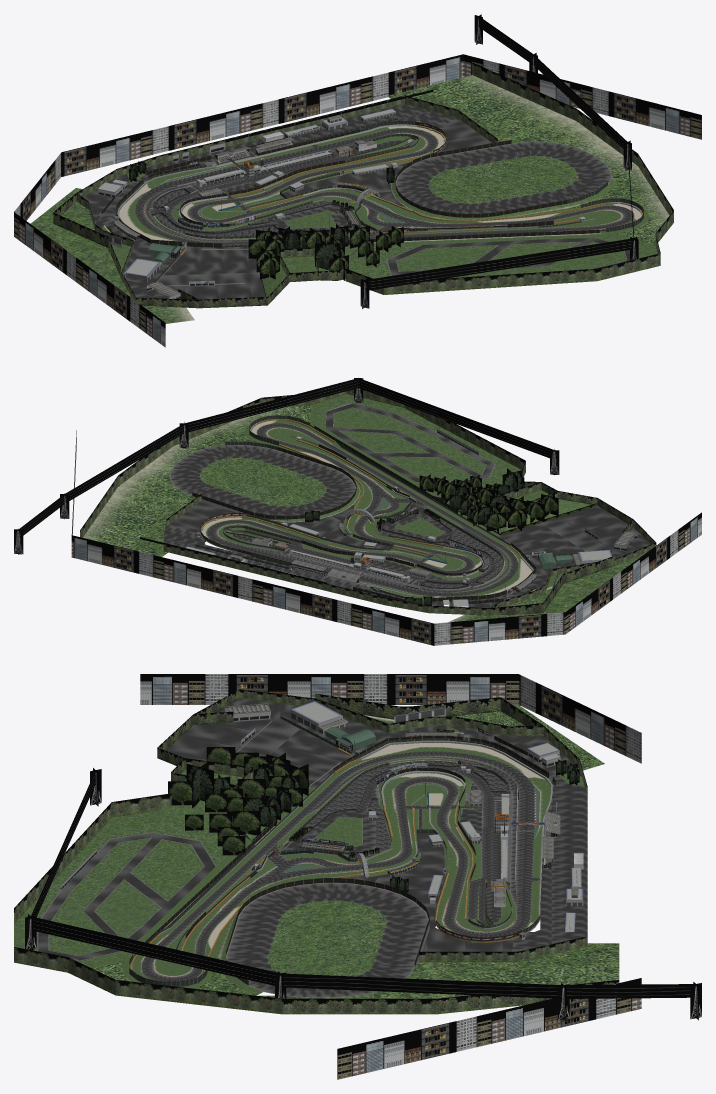
The picture shows the model from 3 angles, top to bottom: view 1: azimuth 30°, elevation 25°; view 2: azimuth 150°, elevation 25°; view 3: azimuth 270°, elevation 25°; orthographic projection. The views are drawn at different scales.
Visible parts, largest first — view 1: tsukubaV8_SKP__tkb_kusa, tsukubaV8_SKP__tkb_road, tsukubaV8_SKP__tkb_lowtatemono, tsukubaV8_SKP__tkb_ki_low, tsukubaV8_SKP__tkb_fence1, tsukubaV8_SKP__tkb_tatemono0, tsukubaV8_SKP__tkb_dentou, tsukubaV8_SKP__tkb_ki, tsukubaV8_SKP__tkb_clashpad, tsukubaV8_SKP__tkb_fence, tsukubaV8_SKP__tkb_suna, tsukubaV8_SKP__water (+3 smaller); view 2: tsukubaV8_SKP__tkb_kusa, tsukubaV8_SKP__tkb_road, tsukubaV8_SKP__tkb_lowtatemono, tsukubaV8_SKP__tkb_ki_low, tsukubaV8_SKP__tkb_dentou, tsukubaV8_SKP__tkb_fence1, tsukubaV8_SKP__tkb_ki, tsukubaV8_SKP__tkb_tatemono0, tsukubaV8_SKP__tkb_clashpad, tsukubaV8_SKP__tkb_fence, tsukubaV8_SKP__water, tsukubaV8_SKP__tkb_kabe (+3 smaller); view 3: tsukubaV8_SKP__tkb_road, tsukubaV8_SKP__tkb_kusa, tsukubaV8_SKP__tkb_lowtatemono, tsukubaV8_SKP__tkb_ki_low, tsukubaV8_SKP__tkb_dentou, tsukubaV8_SKP__tkb_ki, tsukubaV8_SKP__tkb_tatemono0, tsukubaV8_SKP__tkb_fence1, tsukubaV8_SKP__tkb_clashpad, tsukubaV8_SKP__water, tsukubaV8_SKP__tkb_suna, tsukubaV8_SKP__tkb_fence (+2 smaller).
Boxes of the visible parts, bbox=[...] form: tsukubaV8_SKP__tkb_kusa: bbox=[30, 75, 669, 323]; tsukubaV8_SKP__tkb_road: bbox=[83, 104, 634, 299]; tsukubaV8_SKP__tkb_lowtatemono: bbox=[14, 54, 701, 347]; tsukubaV8_SKP__tkb_ki_low: bbox=[53, 62, 673, 308]; tsukubaV8_SKP__tkb_fence1: bbox=[102, 117, 643, 286]; tsukubaV8_SKP__tkb_tatemono0: bbox=[92, 109, 585, 298]; tsukubaV8_SKP__tkb_dentou: bbox=[360, 14, 638, 308]; tsukubaV8_SKP__tkb_ki: bbox=[107, 137, 403, 296]; tsukubaV8_SKP__tkb_clashpad: bbox=[116, 124, 642, 265]; tsukubaV8_SKP__tkb_fence: bbox=[114, 89, 433, 258]; tsukubaV8_SKP__tkb_suna: bbox=[119, 126, 641, 240]; tsukubaV8_SKP__water: bbox=[155, 190, 354, 236]; tsukubaV8_SKP__tkb_kusa: bbox=[83, 394, 656, 622]; tsukubaV8_SKP__tkb_road: bbox=[164, 403, 650, 607]; tsukubaV8_SKP__tkb_lowtatemono: bbox=[71, 430, 701, 645]; tsukubaV8_SKP__tkb_ki_low: bbox=[80, 389, 656, 615]; tsukubaV8_SKP__tkb_dentou: bbox=[14, 378, 559, 554]; tsukubaV8_SKP__tkb_fence1: bbox=[192, 402, 611, 604]; tsukubaV8_SKP__tkb_ki: bbox=[305, 468, 597, 605]; tsukubaV8_SKP__tkb_tatemono0: bbox=[185, 429, 637, 606]; tsukubaV8_SKP__tkb_clashpad: bbox=[200, 418, 571, 600]; tsukubaV8_SKP__tkb_fence: bbox=[140, 487, 538, 591]; tsukubaV8_SKP__water: bbox=[375, 514, 503, 587]; tsukubaV8_SKP__tkb_kabe: bbox=[200, 415, 432, 551]; tsukubaV8_SKP__tkb_road: bbox=[38, 698, 587, 997]; tsukubaV8_SKP__tkb_kusa: bbox=[14, 705, 619, 998]; tsukubaV8_SKP__tkb_lowtatemono: bbox=[140, 674, 641, 1079]; tsukubaV8_SKP__tkb_ki_low: bbox=[14, 689, 619, 1014]; tsukubaV8_SKP__tkb_dentou: bbox=[25, 768, 701, 1021]; tsukubaV8_SKP__tkb_ki: bbox=[168, 729, 579, 892]; tsukubaV8_SKP__tkb_tatemono0: bbox=[61, 701, 583, 966]; tsukubaV8_SKP__tkb_fence1: bbox=[70, 716, 555, 966]; tsukubaV8_SKP__tkb_clashpad: bbox=[130, 726, 552, 971]; tsukubaV8_SKP__water: bbox=[303, 761, 507, 858]; tsukubaV8_SKP__tkb_suna: bbox=[209, 743, 543, 948]; tsukubaV8_SKP__tkb_fence: bbox=[252, 736, 557, 881].
Bounding box in the file's own units: 219945 × 14041 × 170640.
Materials: 20 (19 with a texture image).
